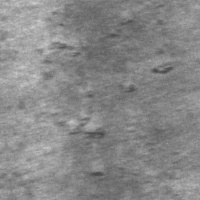rolled-in_scale: (29, 34, 111, 184), (111, 52, 182, 96)
